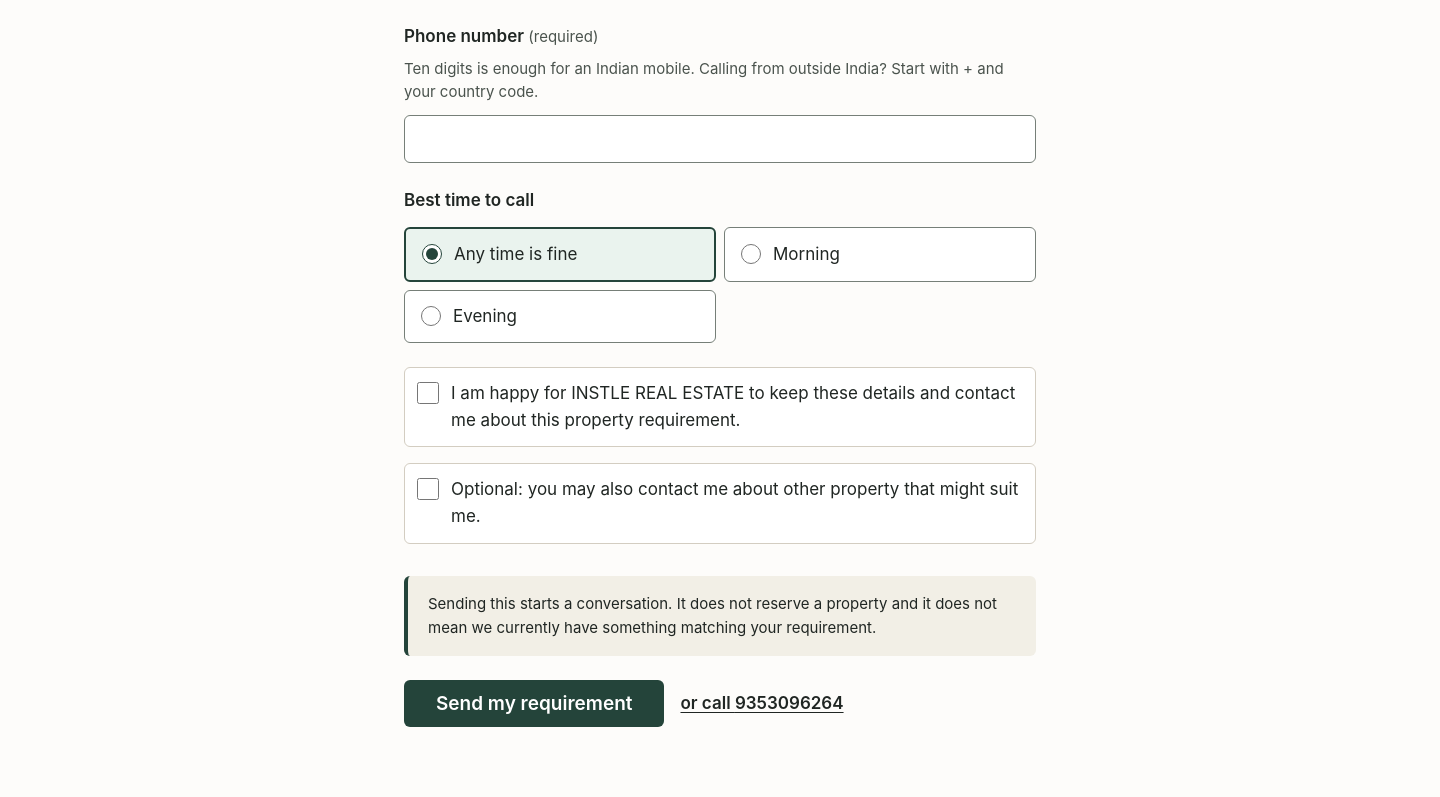
Test: client-side validation › does not signal an error by colour alone
(page scrolled)
Click the button "Send my requirement": [534, 703] box x1=404 y1=680 x2=664 y2=727
(page scrolled)
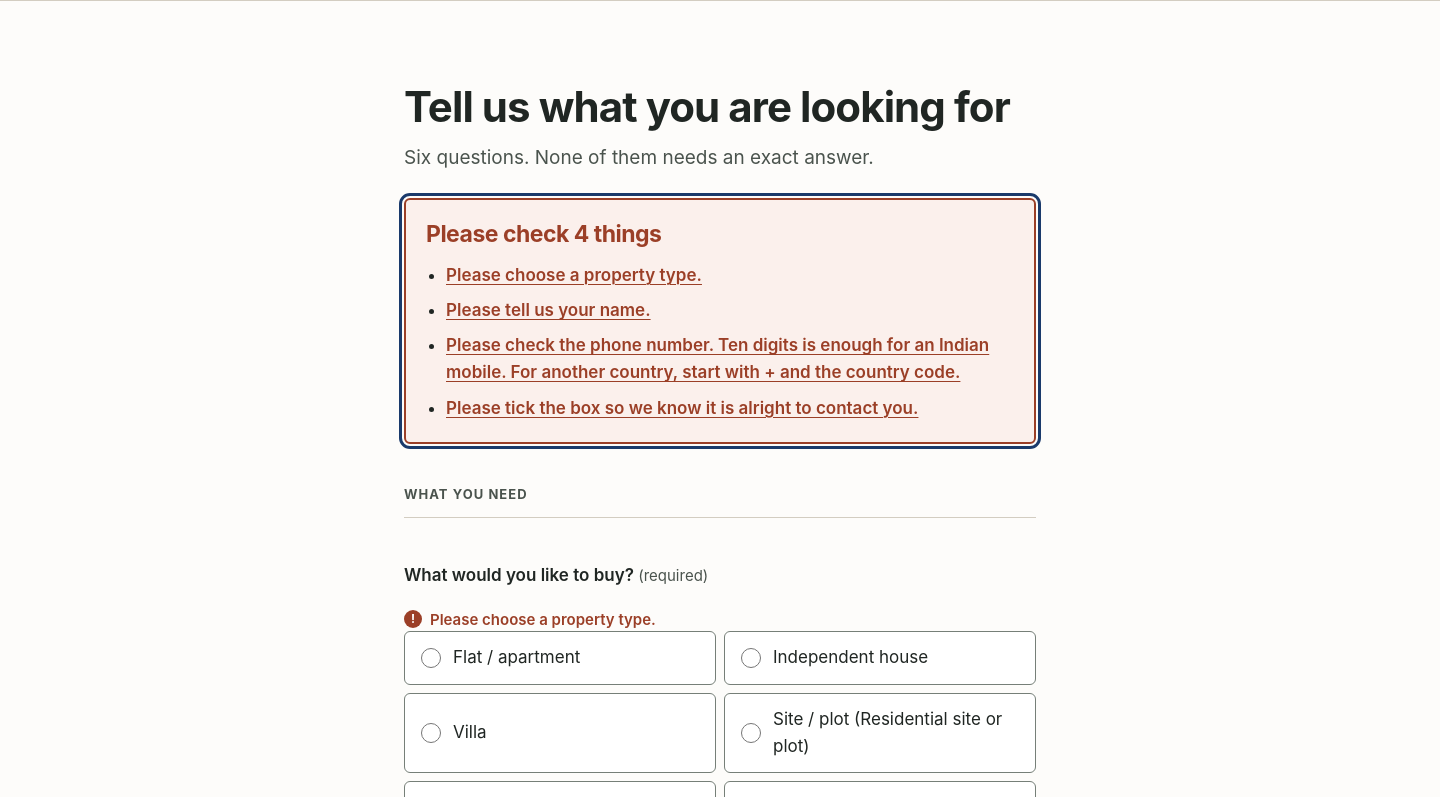
Expected: the element showing "! Please choose a property type." is shown, x1=404 y1=610 x2=656 y2=629
